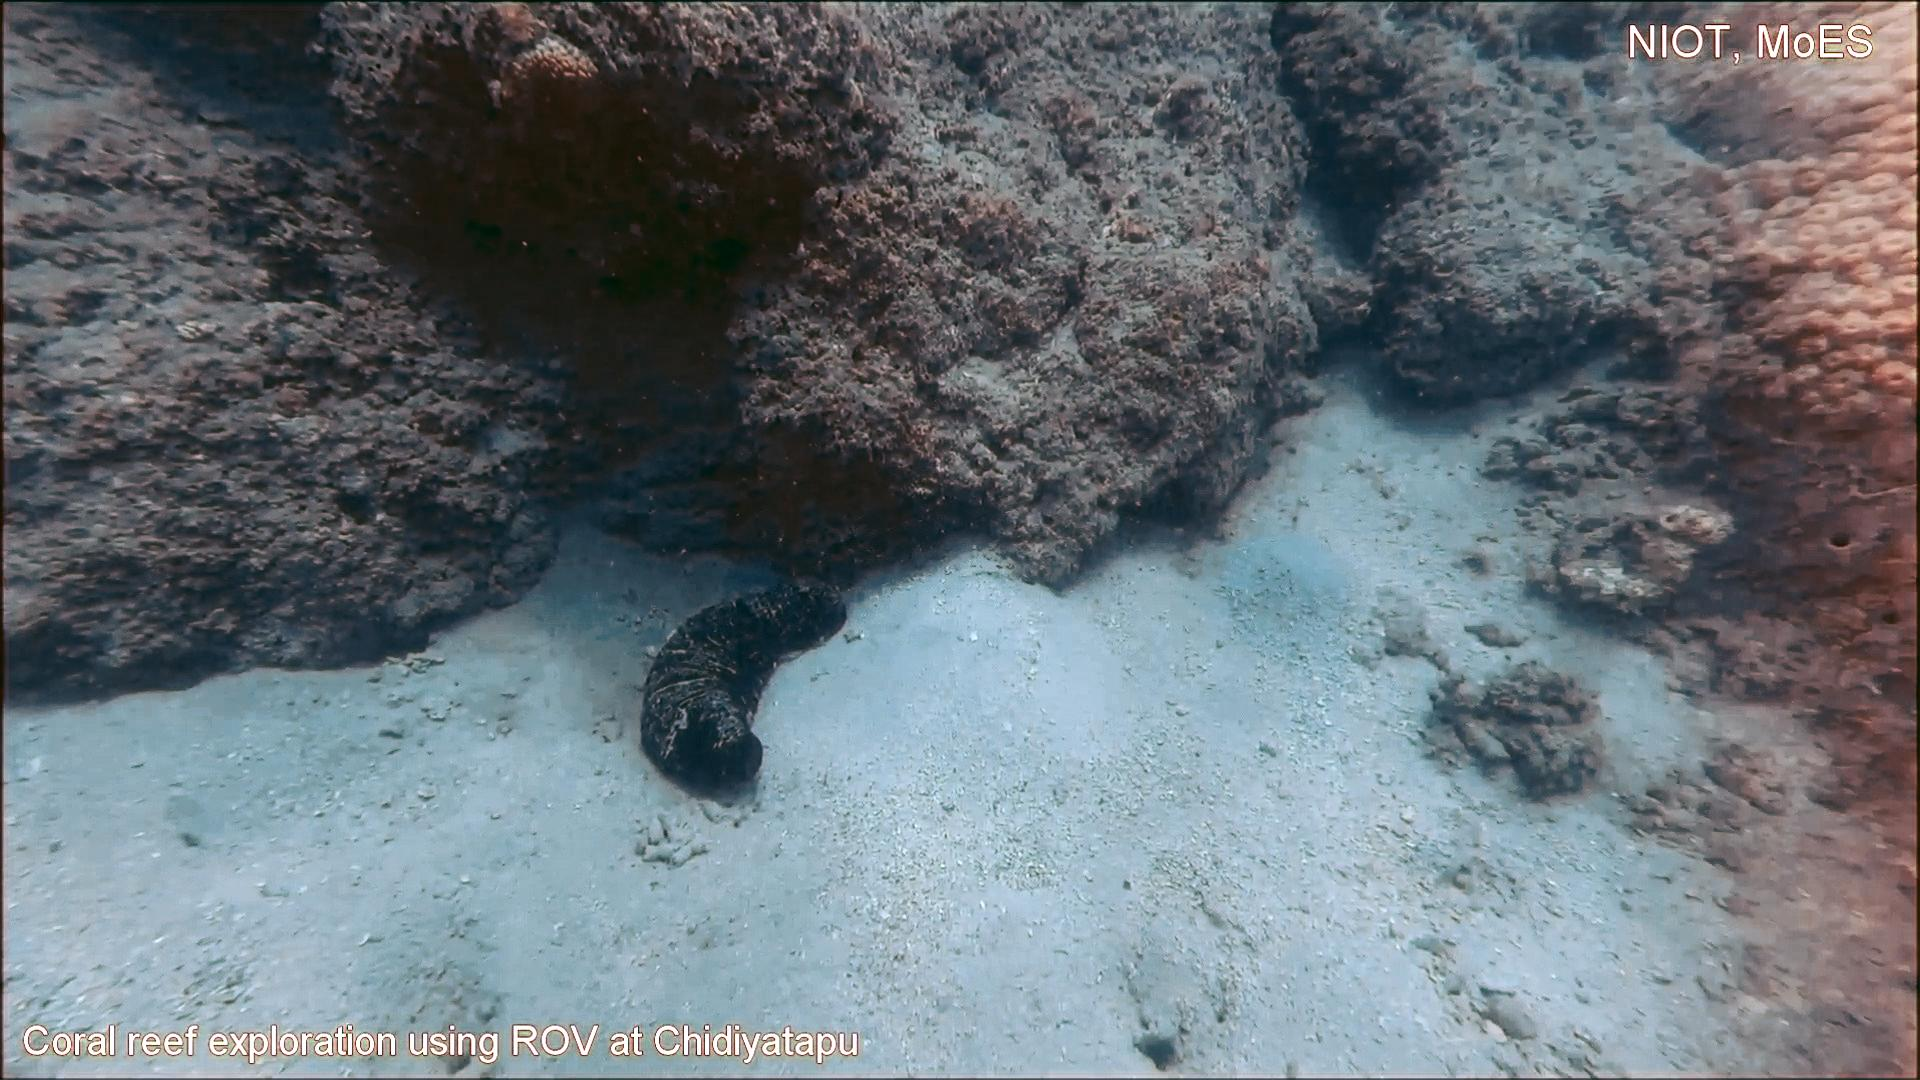Montastraea: (477, 25, 613, 140)
